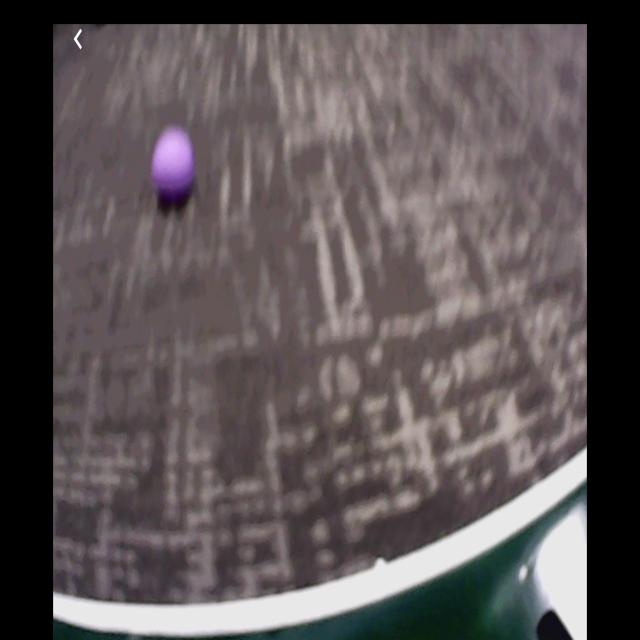ball: (153, 129, 194, 195)
